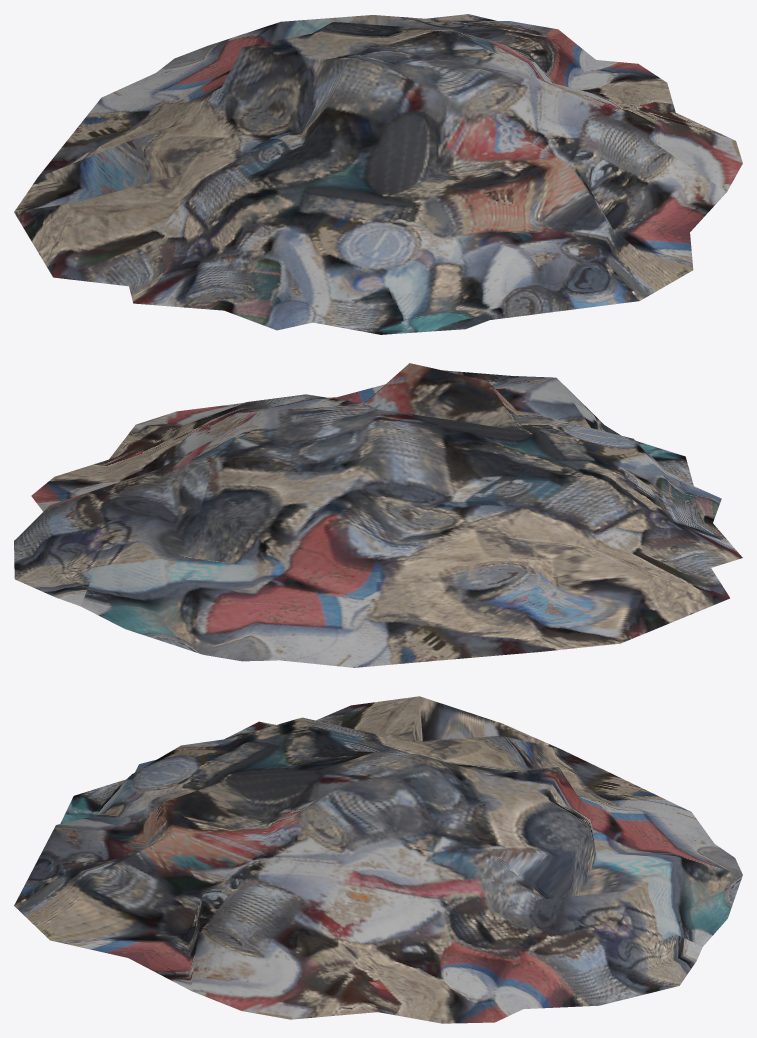
File: SM_Trash_Pile_02.fbx
3 views of the same model, one above another, from view 1: azimuth 30°, elevation 25°; view 2: azimuth 150°, elevation 25°; view 3: azimuth 270°, elevation 25° (orthographic). The views are drawn at different scales.
Parts seen in each view (by area): view 1: SM_Trash_Pile_02; view 2: SM_Trash_Pile_02; view 3: SM_Trash_Pile_02.
Part boxes in pixels (left/top/right/bottom): SM_Trash_Pile_02: left=14, top=14, right=742, bottom=334; SM_Trash_Pile_02: left=14, top=363, right=742, bottom=667; SM_Trash_Pile_02: left=14, top=696, right=742, bottom=1023.
Size of the model in its own units: 3.89 by 0.663 by 3.77.
